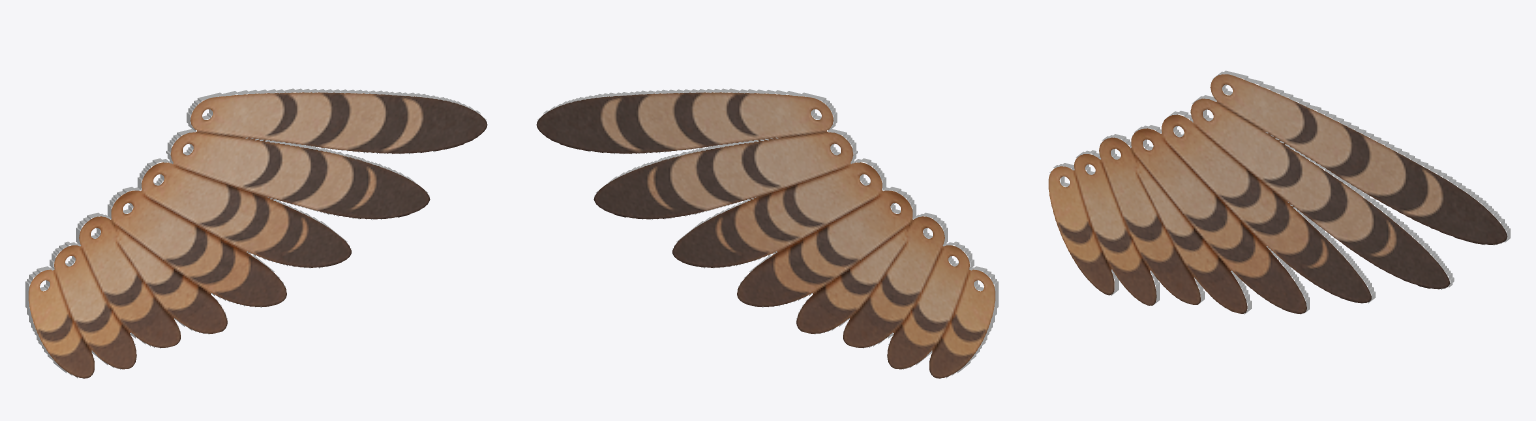
The model's file is FanRight.glb.
3 views of the same model, side by side, from view 1: azimuth 30°, elevation 25°; view 2: azimuth 150°, elevation 25°; view 3: azimuth 330°, elevation 25° (orthographic).
Parts seen in each view (by area): view 1: PaperVolume; view 2: PaperVolume; view 3: PaperVolume.
Part boxes in pixels (x1,y1,x2,y2): PaperVolume: [25, 88, 487, 378]; PaperVolume: [536, 88, 998, 378]; PaperVolume: [1048, 70, 1510, 314].
Bounding box in the file's own units: 5.52 × 3 × 0.08.
Materials: 3 (2 with a texture image).
